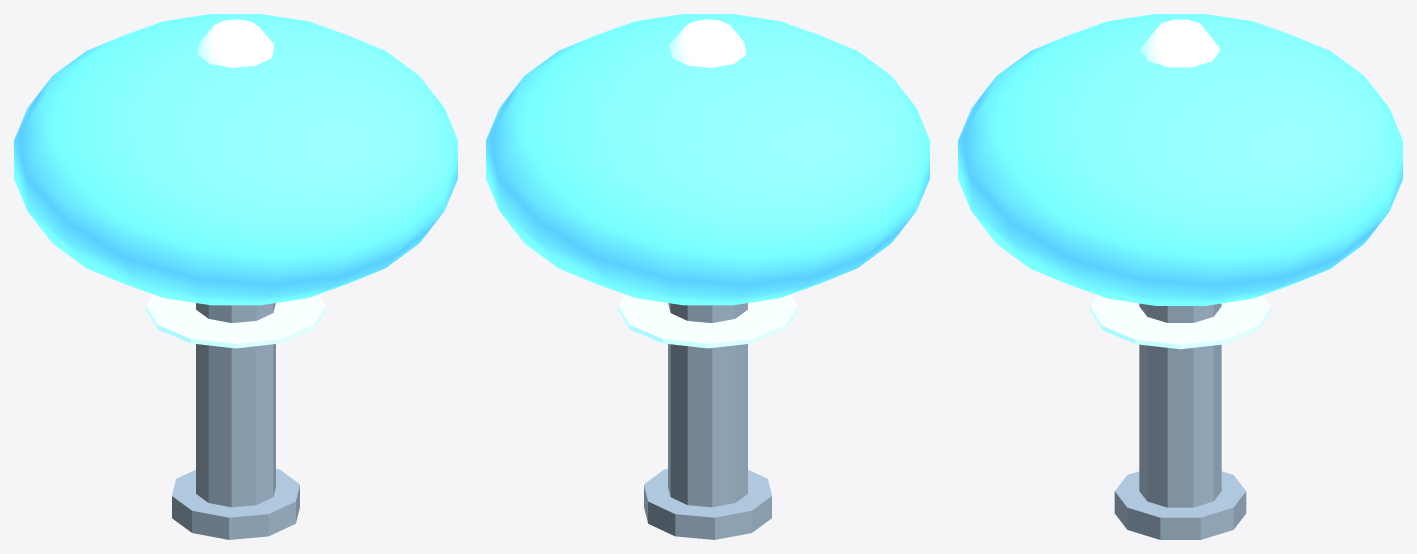
The model's file is mushroom_glow.glb.
3 views of the same model, side by side, from view 1: azimuth 30°, elevation 25°; view 2: azimuth 150°, elevation 25°; view 3: azimuth 270°, elevation 25° (orthographic).
Visible parts, largest first — view 1: Sphere, Cylinder, Cylinder.002, Cylinder.001, Sphere.001; view 2: Sphere, Cylinder, Cylinder.002, Cylinder.001, Sphere.001; view 3: Sphere, Cylinder, Cylinder.002, Cylinder.001, Sphere.001.
Part boxes in pixels (bbox=[...]): Sphere: bbox=[14, 14, 457, 305]; Cylinder: bbox=[196, 303, 275, 507]; Cylinder.002: bbox=[146, 294, 325, 348]; Cylinder.001: bbox=[172, 469, 299, 539]; Sphere.001: bbox=[198, 19, 273, 67]; Sphere: bbox=[486, 14, 929, 305]; Cylinder: bbox=[668, 303, 747, 507]; Cylinder.002: bbox=[618, 294, 797, 348]; Cylinder.001: bbox=[644, 469, 771, 539]; Sphere.001: bbox=[670, 19, 745, 67]; Sphere: bbox=[958, 14, 1402, 305]; Cylinder: bbox=[1139, 303, 1221, 507]; Cylinder.002: bbox=[1090, 295, 1270, 349]; Cylinder.001: bbox=[1114, 471, 1246, 539]; Sphere.001: bbox=[1141, 19, 1219, 67].
Size of the model in its own units: 1.07 by 1.32 by 1.08.
